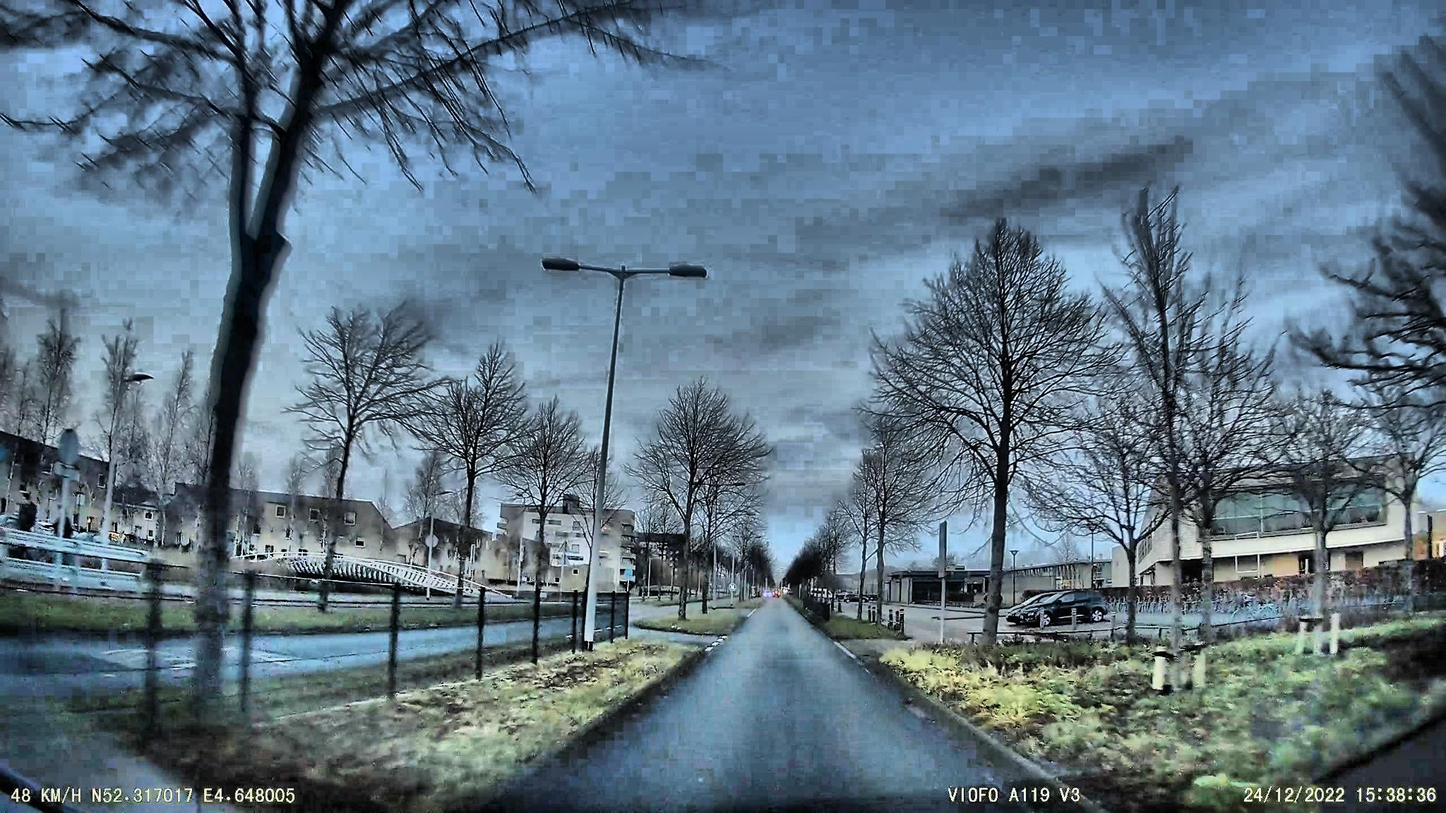Roads: (524, 604, 1062, 813)
